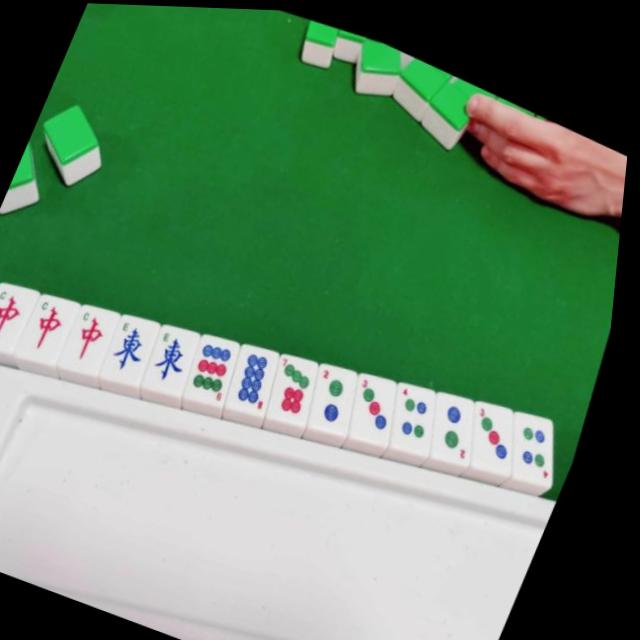hdr: (22, 290, 86, 365), (66, 301, 127, 373), (0, 278, 43, 354)
hwe: (104, 308, 172, 384), (146, 318, 213, 394)
sd2: (430, 382, 498, 458), (308, 352, 374, 427)
sd3: (469, 388, 539, 463), (350, 362, 416, 436)
sd4: (390, 369, 456, 444), (514, 403, 580, 475)
sd7: (269, 343, 336, 420)
sd8: (232, 337, 295, 412)
sd9: (188, 326, 254, 402)
